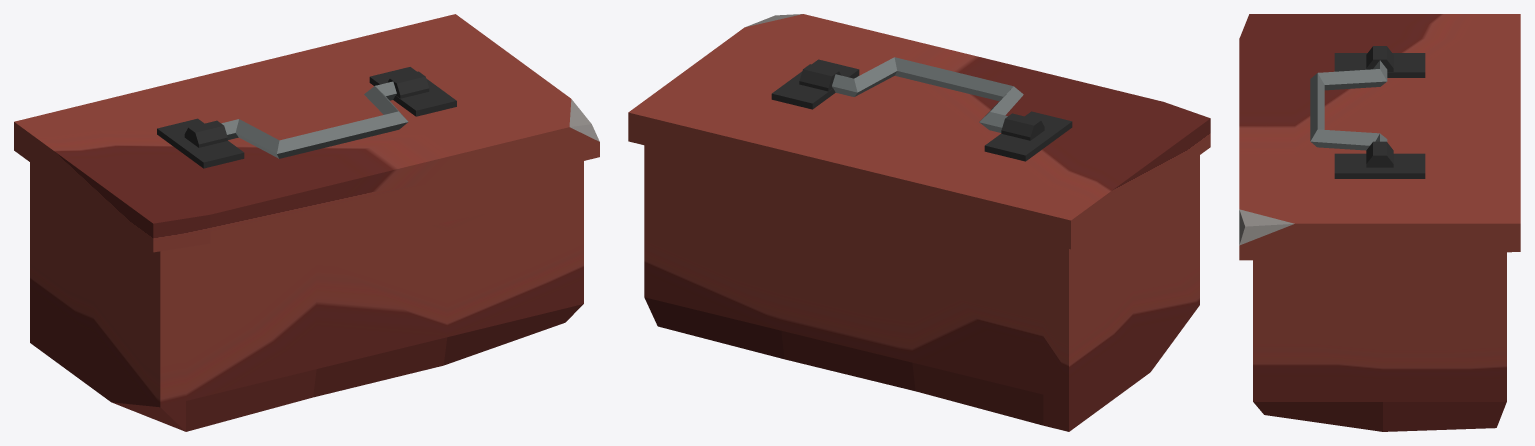
Rendered from SM_Metall_Box.fbx.
The picture shows the model from 3 angles, left to right: view 1: azimuth 30°, elevation 25°; view 2: azimuth 150°, elevation 25°; view 3: azimuth 270°, elevation 25°; orthographic projection. The views are drawn at different scales.
Parts seen in each view (by area): view 1: SM_Metall_Box, SM_Metall_Box_Lid, SM_Metall_Box_Handle; view 2: SM_Metall_Box, SM_Metall_Box_Lid, SM_Metall_Box_Handle; view 3: SM_Metall_Box_Lid, SM_Metall_Box, SM_Metall_Box_Handle.
Boxes of the visible parts, <box> form: SM_Metall_Box: <box>30,161,583,431</box>; SM_Metall_Box_Lid: <box>14,14,599,252</box>; SM_Metall_Box_Handle: <box>221,81,408,158</box>; SM_Metall_Box: <box>644,145,1199,431</box>; SM_Metall_Box_Lid: <box>628,14,1210,249</box>; SM_Metall_Box_Handle: <box>832,57,1023,132</box>; SM_Metall_Box_Lid: <box>1239,14,1520,260</box>; SM_Metall_Box: <box>1253,252,1506,431</box>; SM_Metall_Box_Handle: <box>1310,60,1387,150</box>.
Size of the model in its own units: 50.41 by 25.83 by 28.55.
